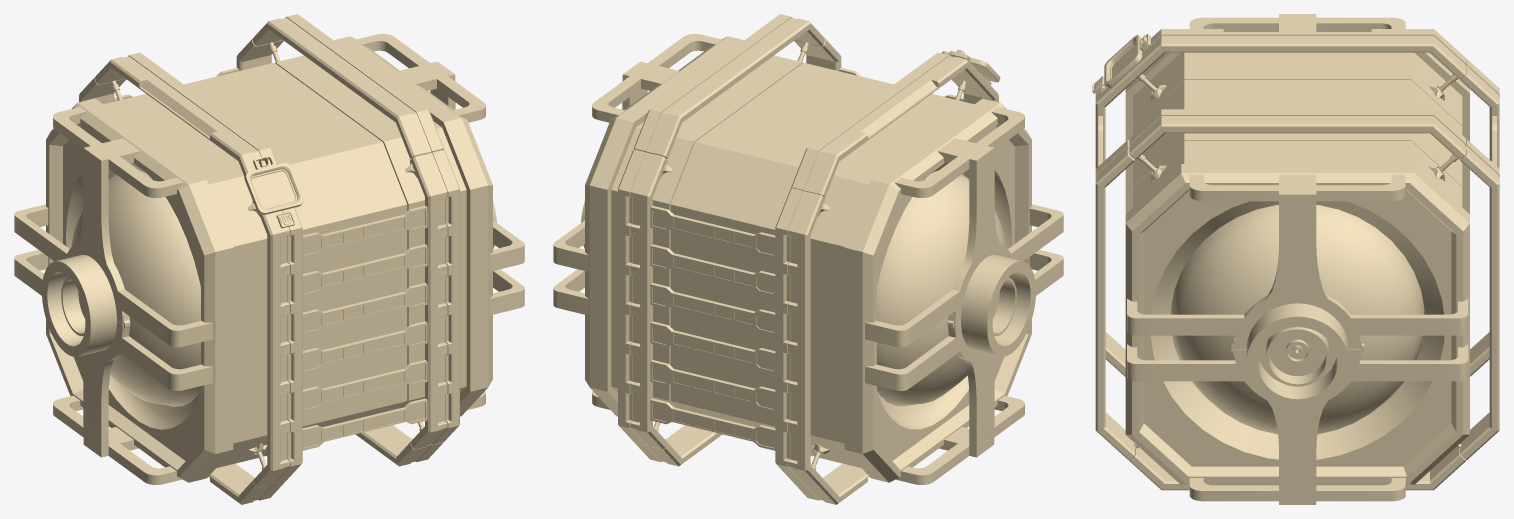
File: cargo_box3.fbx
The picture shows the model from 3 angles, left to right: view 1: azimuth 30°, elevation 25°; view 2: azimuth 150°, elevation 25°; view 3: azimuth 270°, elevation 25°; orthographic projection. The views are drawn at different scales.
Visible parts, largest first — view 1: Cube.007, Cylinder.001, Cube.028, Cube.017, Cube.006; view 2: Cube.007, Cylinder.001, Cube.028, Cube.017, Cube.006; view 3: Cube.007, Cylinder.001, Cube.028, Cube.017, Cube.006.
Boxes of the visible parts, x1,y1,x2,y2 form: Cube.007: (46, 36, 492, 482); Cylinder.001: (79, 14, 459, 504); Cube.028: (14, 34, 524, 484); Cube.017: (42, 171, 496, 405); Cube.006: (61, 277, 85, 336); Cube.007: (585, 36, 1031, 482); Cylinder.001: (618, 14, 1000, 504); Cube.028: (553, 34, 1063, 484); Cube.017: (581, 171, 1035, 405); Cube.006: (992, 277, 1016, 336); Cube.007: (1125, 52, 1469, 484); Cylinder.001: (1092, 29, 1499, 490); Cube.028: (1127, 14, 1468, 504); Cube.017: (1171, 205, 1423, 434); Cube.006: (1258, 327, 1336, 386).
Size of the model in its own units: 211 by 174 by 175.
